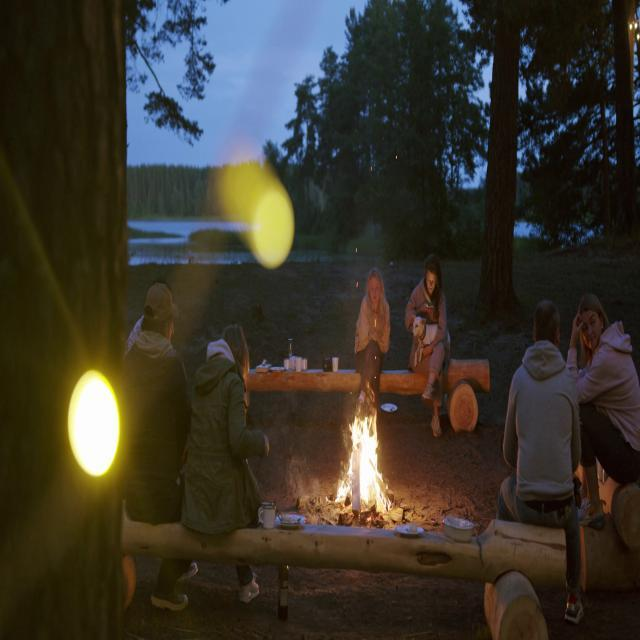Fire: (336, 399, 392, 520)
